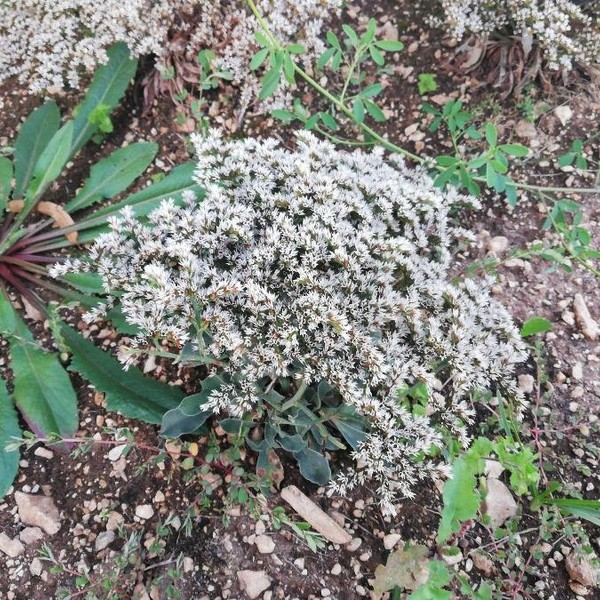obstacle: (71, 90, 500, 493)
